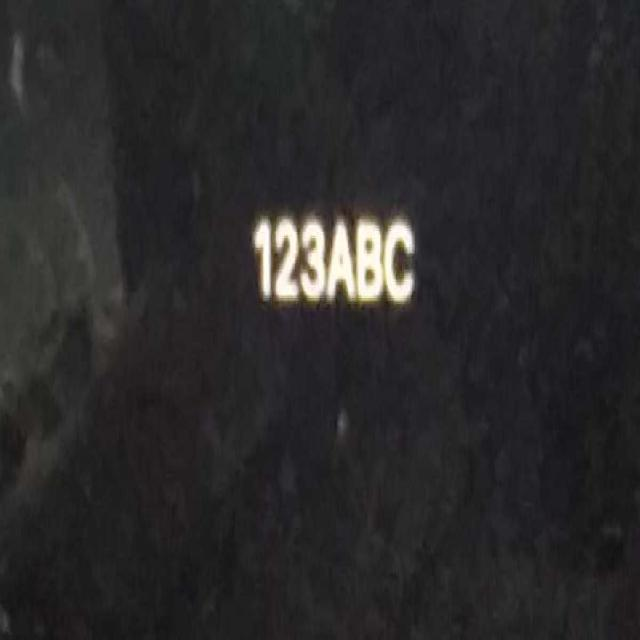license_plate: (252, 205, 422, 328)
